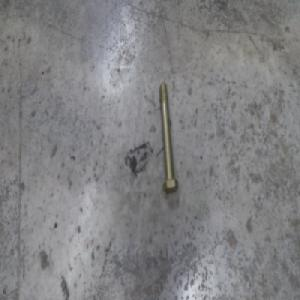Bolt: (157, 81, 178, 194)
